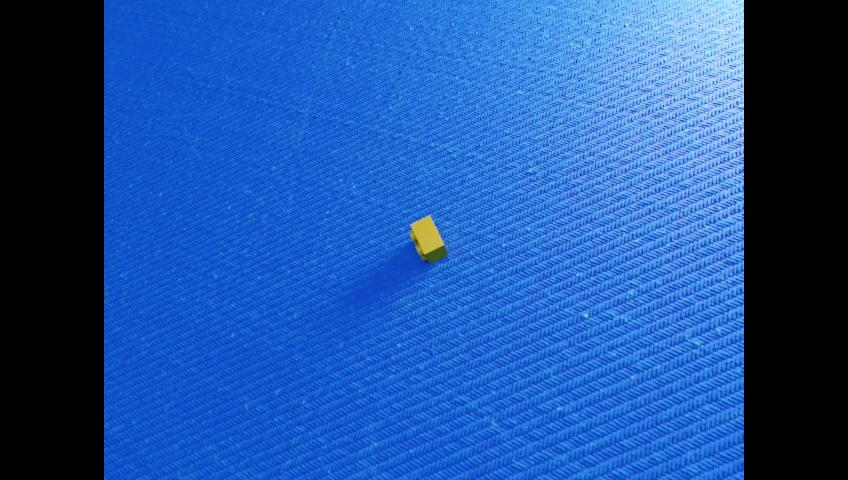2x2_yellow: (408, 215, 447, 263)
